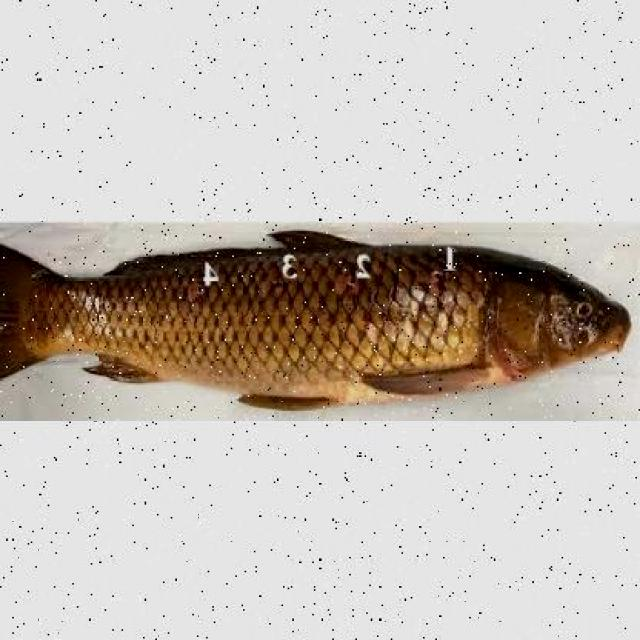ikan-mas: (5, 234, 632, 400)
